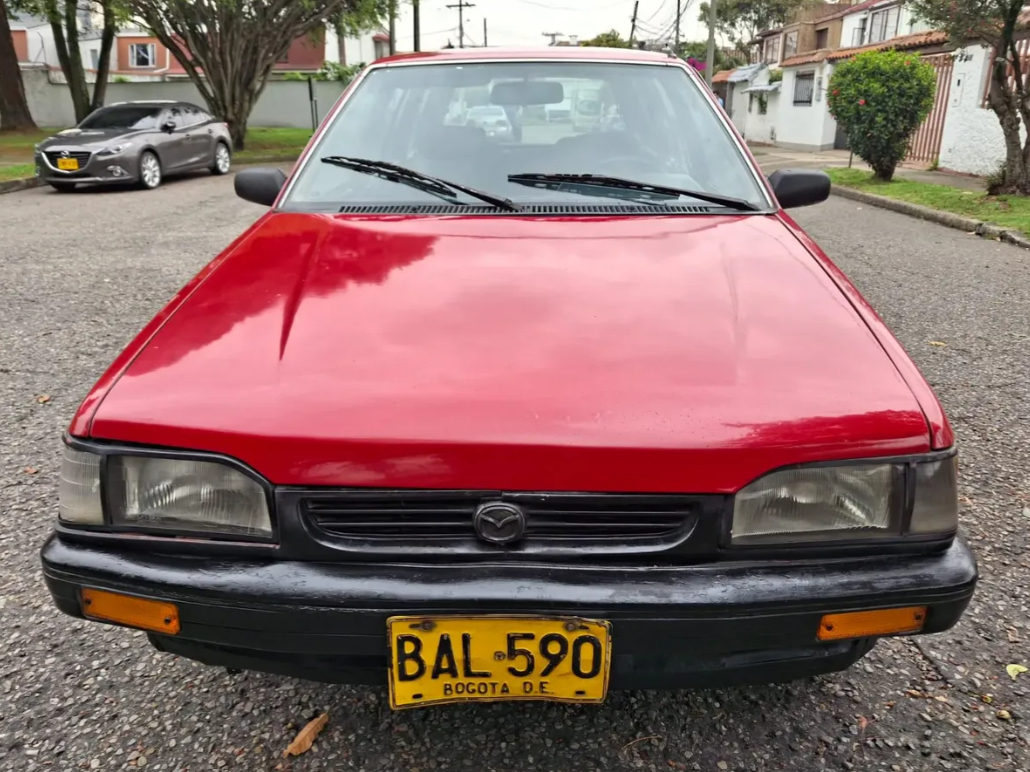placa: (387, 616, 612, 706)
